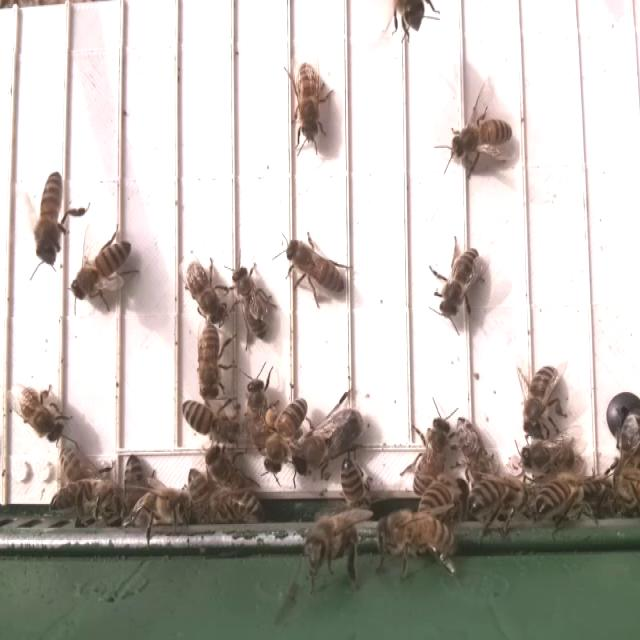Drone: (291, 406, 367, 478)
Worker: (68, 238, 136, 304), (283, 231, 348, 299), (434, 243, 482, 322), (32, 169, 70, 267), (176, 394, 241, 449), (262, 396, 305, 479), (445, 114, 517, 162), (17, 380, 70, 444), (229, 263, 272, 340), (184, 255, 229, 328), (413, 417, 453, 495), (463, 472, 524, 522), (524, 362, 561, 442), (291, 58, 323, 145), (531, 477, 589, 524), (194, 318, 226, 400), (519, 436, 579, 478), (244, 372, 271, 452), (340, 455, 372, 521)
